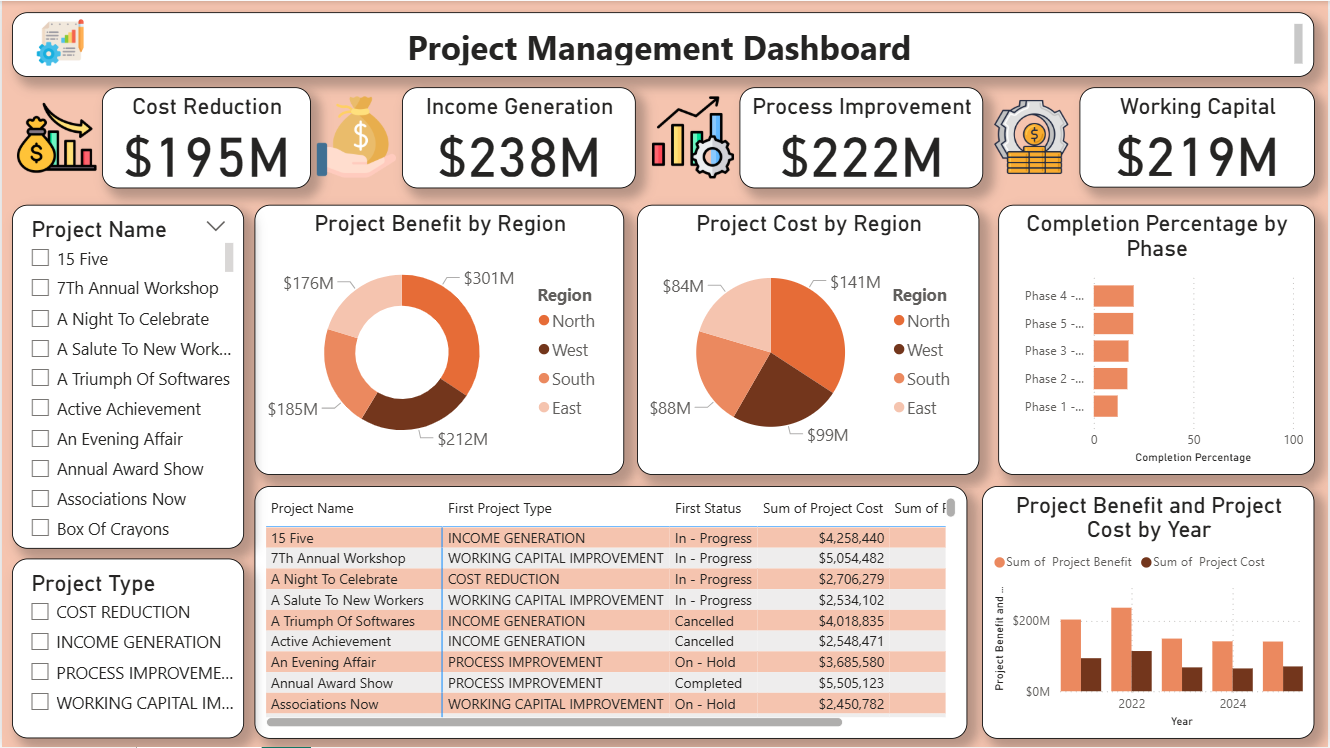

The page's visual inventory and layout, read from the dashboard file:
{"tool":"powerbi","page":{"name":"Dashboard","canvas":[1280,720],"ordinal":0},"visuals":[{"type":"textbox","box":[9.7,10.9,1257.1,62.7],"z":0},{"type":"card","title":"Cost Reduction","fields":{"Values":["Sum(Project Management Dataset. Project Benefit )"]},"box":[96.5,83.2,201.5,97.7],"z":1000},{"type":"card","title":"Income Generation","fields":{"Values":["Sum(Project Management Dataset. Project Benefit )"]},"box":[386.1,83.2,225.6,97.7],"z":2000},{"type":"card","title":"Process Improvement","fields":{"Values":["Sum(Project Management Dataset. Project Benefit )"]},"box":[711.8,83.2,235.3,97.7],"z":3000},{"type":"card","title":"Working Capital","fields":{"Values":["Sum(Project Management Dataset. Project Benefit )"]},"box":[1040,83.2,226.8,96.5],"z":4000},{"type":"image","box":[297.8,83.7,87.8,96.1],"z":5000},{"type":"image","box":[623,83.7,89.2,97.4],"z":6000},{"type":"image","box":[9.7,83.2,86.9,97.7],"z":7000},{"type":"image","box":[946.8,83.7,93.3,96.1],"z":8000},{"type":"donutChart","title":"Project Benefit by Region","fields":{"Y":["Sum(Project Management Dataset. Project Benefit )"],"Category":["Project Management Dataset.Region"]},"box":[243.7,196.6,357.1,260.6],"z":9000},{"type":"pieChart","title":"Project Cost by Region","fields":{"Category":["Project Management Dataset.Region"],"Y":["Sum(Project Management Dataset. Project Cost )"]},"box":[612.9,196.6,330.6,260.6],"z":10000},{"type":"barChart","title":"Completion Percentage by Phase","fields":{"Y":["Sum(Project Management Dataset.Completion%)"],"Category":["Project Management Dataset.Phase"]},"box":[961.5,196.6,305.2,260.6],"z":11000},{"type":"pivotTable","fields":{"Rows":["Project Management Dataset.Project Name"],"Values":["Min(Project Management Dataset.Project Type)","Min(Project Management Dataset.Status)","Sum(Project Management Dataset. Project Cost )","Sum(Project Management Dataset. Project Benefit )"]},"box":[243.7,468.1,687.7,243.7],"z":12000},{"type":"clusteredColumnChart","title":"Project Benefit and Project Cost by Year","fields":{"Y":["Sum(Project Management Dataset. Project Benefit )","Sum(Project Management Dataset. Project Cost )"],"Category":["Project Management Dataset.Start Date.Variation.Date Hierarchy.Year"]},"box":[945.8,468.1,320.9,243.7],"z":13000},{"type":"slicer","fields":{"Values":["Project Management Dataset.Project Name"]},"box":[9.7,196.6,224.4,331.8],"z":13001},{"type":"slicer","fields":{"Values":["Project Management Dataset.Project Type"]},"box":[9.7,538.1,224.4,173.7],"z":13002},{"type":"image","box":[26.5,7.2,59.1,66.4],"z":13003}]}

Visuals, with their boxes in screenshot pixels (x1, y1, x2, y2), scaled from the page's 1280x720 canvas onto the 1330x748 screenshot:
textbox: <bbox>10, 11, 1316, 76</bbox>
"Cost Reduction" card: <bbox>100, 86, 310, 188</bbox>
"Income Generation" card: <bbox>401, 86, 636, 188</bbox>
"Process Improvement" card: <bbox>740, 86, 984, 188</bbox>
"Working Capital" card: <bbox>1081, 86, 1316, 187</bbox>
image: <bbox>309, 87, 401, 187</bbox>
image: <bbox>647, 87, 740, 188</bbox>
image: <bbox>10, 86, 100, 188</bbox>
image: <bbox>984, 87, 1081, 187</bbox>
"Project Benefit by Region" donutChart: <bbox>253, 204, 624, 475</bbox>
"Project Cost by Region" pieChart: <bbox>637, 204, 980, 475</bbox>
"Completion Percentage by Phase" barChart: <bbox>999, 204, 1316, 475</bbox>
pivotTable - Project Management Dataset.Project Name x Min(Project Management Dataset.Project Type): <bbox>253, 486, 968, 739</bbox>
"Project Benefit and Project Cost by Year" clusteredColumnChart: <bbox>983, 486, 1316, 739</bbox>
slicer - Project Management Dataset.Project Name: <bbox>10, 204, 243, 549</bbox>
slicer - Project Management Dataset.Project Type: <bbox>10, 559, 243, 739</bbox>
image: <bbox>28, 7, 89, 76</bbox>
